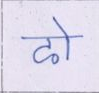o_matra: (58, 20, 74, 59)
